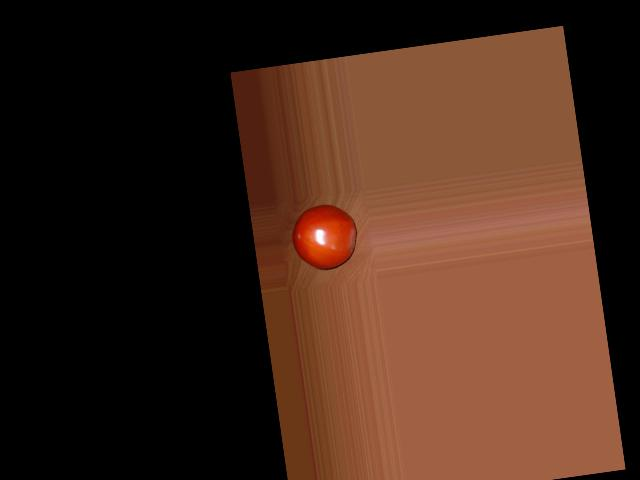tomato: (288, 199, 360, 273)
